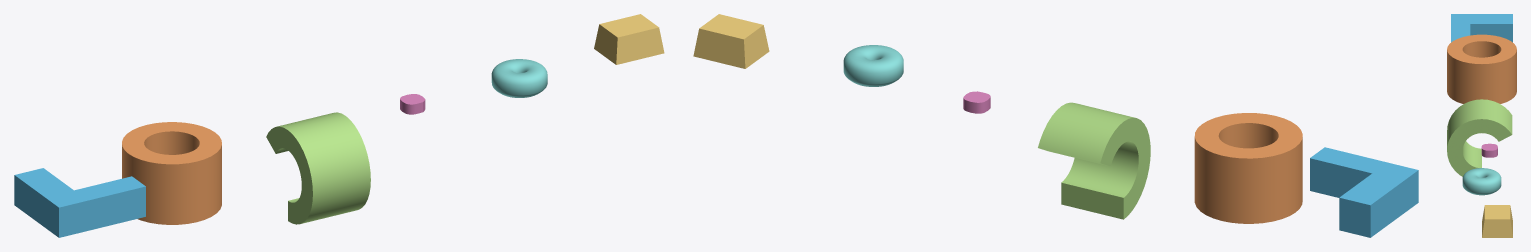
Rendered from extrude_revolve.glb.
3 renders of one model, left to right at view 1: azimuth 30°, elevation 25°; view 2: azimuth 150°, elevation 25°; view 3: azimuth 270°, elevation 25°, orthographic. The views are drawn at different scales.
Parts seen in each view (by area): view 1: sleeve, sector, bracket, tapered_block, curved_ring, curved_plate; view 2: sleeve, sector, bracket, tapered_block, curved_ring, curved_plate; view 3: sleeve, sector, bracket, tapered_block, curved_ring, curved_plate.
Boxes of the visible parts, x1=… form: sleeve: x1=122, y1=122, x2=221, y2=224; sector: x1=266, y1=112, x2=370, y2=224; bracket: x1=14, y1=168, x2=145, y2=237; tapered_block: x1=594, y1=14, x2=664, y2=64; curved_ring: x1=491, y1=59, x2=547, y2=97; curved_plate: x1=400, y1=94, x2=425, y2=114; sleeve: x1=1194, y1=113, x2=1302, y2=223; sector: x1=1038, y1=102, x2=1150, y2=219; bracket: x1=1310, y1=147, x2=1418, y2=237; tapered_block: x1=693, y1=14, x2=769, y2=68; curved_ring: x1=843, y1=45, x2=903, y2=86; curved_plate: x1=963, y1=91, x2=990, y2=113; sleeve: x1=1447, y1=34, x2=1516, y2=103; sector: x1=1447, y1=99, x2=1512, y2=176; bracket: x1=1451, y1=14, x2=1512, y2=42; tapered_block: x1=1482, y1=205, x2=1512, y2=237; curved_ring: x1=1462, y1=168, x2=1501, y2=195; curved_plate: x1=1481, y1=143, x2=1497, y2=157.
Size of the model in its own units: 130 by 21 by 18.
